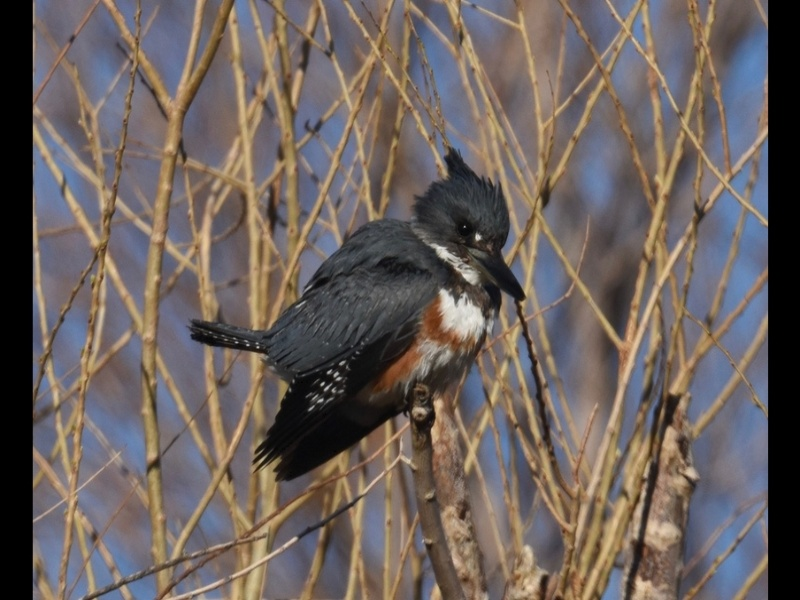kingfisher: (188, 147, 529, 482)
